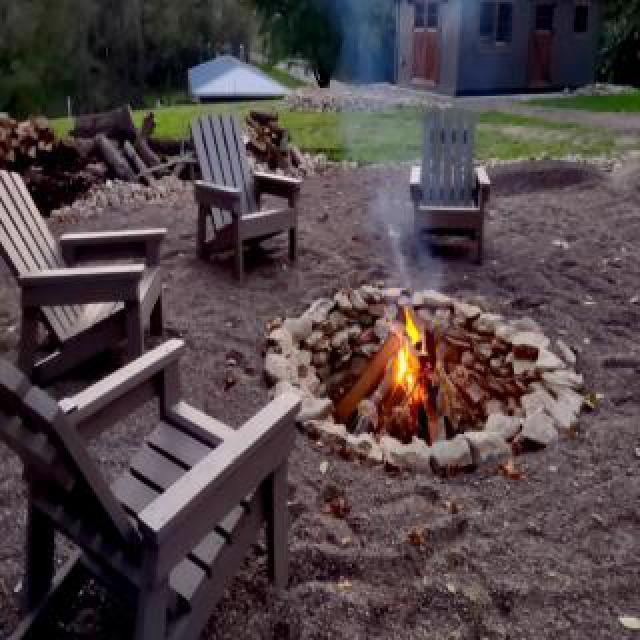Fire: (392, 314, 424, 408)
Smoke: (366, 144, 441, 322)
